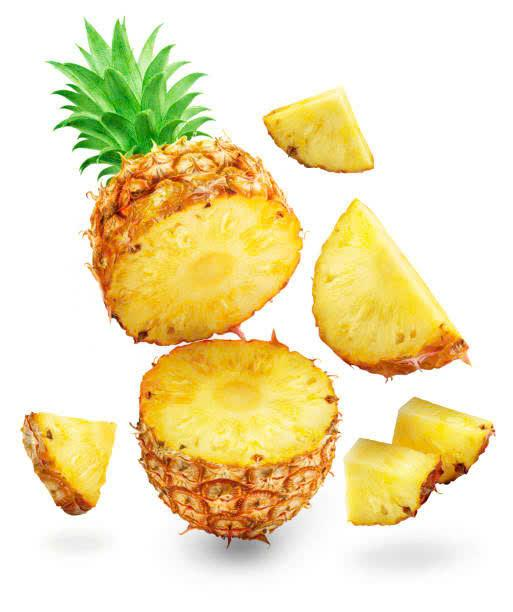pineapple: (34, 0, 301, 343), (121, 339, 346, 586), (317, 210, 474, 369), (250, 70, 402, 214), (359, 380, 488, 544), (4, 396, 121, 526)
